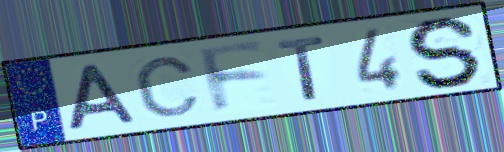4: (354, 25, 406, 94)
A: (65, 62, 141, 133)
C: (131, 55, 204, 120)
F: (195, 40, 271, 118)
S: (404, 14, 486, 90)
T: (274, 33, 330, 103)
